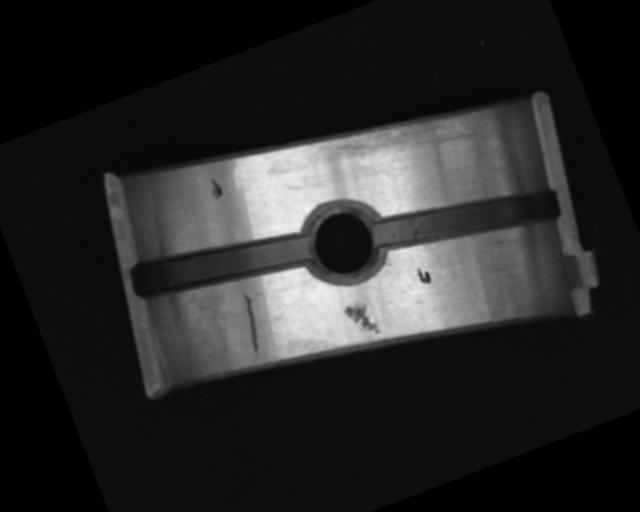blot: (413, 262, 435, 288)
bruise: (343, 297, 382, 342), (206, 175, 225, 200)
gap: (368, 158, 563, 280), (129, 206, 315, 325)
hole: (291, 190, 393, 292)
nick: (232, 291, 272, 360)
scratch: (313, 87, 476, 189)
